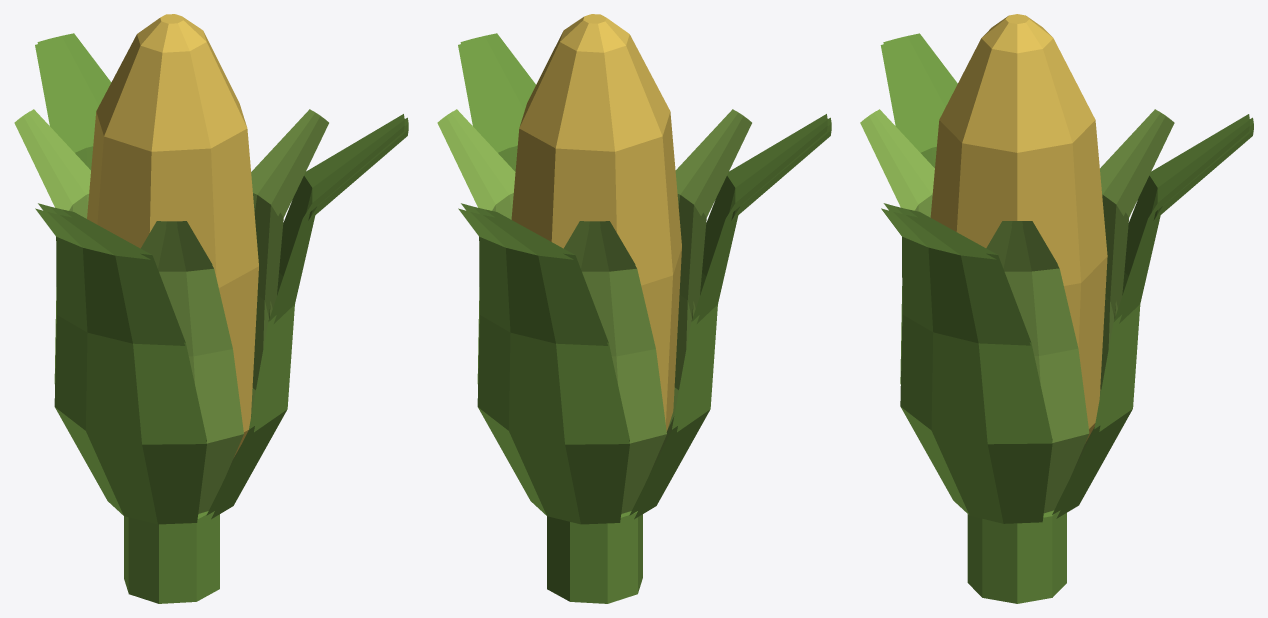
File: FD_Corn_01.glb
3 views of the same model, side by side, from view 1: azimuth 30°, elevation 25°; view 2: azimuth 150°, elevation 25°; view 3: azimuth 270°, elevation 25° (orthographic).
Parts seen in each view (by area): view 1: FD_Corn_01; view 2: FD_Corn_01; view 3: FD_Corn_01.
Part boxes in pixels (box(x1,y1,x2,y2)): FD_Corn_01: box(14, 14, 408, 603); FD_Corn_01: box(437, 14, 831, 603); FD_Corn_01: box(860, 14, 1253, 603).
Size of the model in its own units: 0.143 by 0.207 by 0.131.
1 material, 1 textured.
